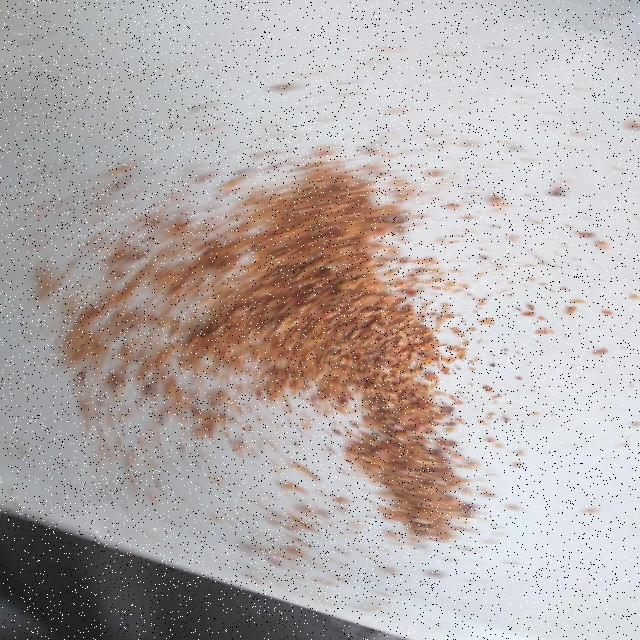Chili Pepper: (73, 161, 506, 539)
